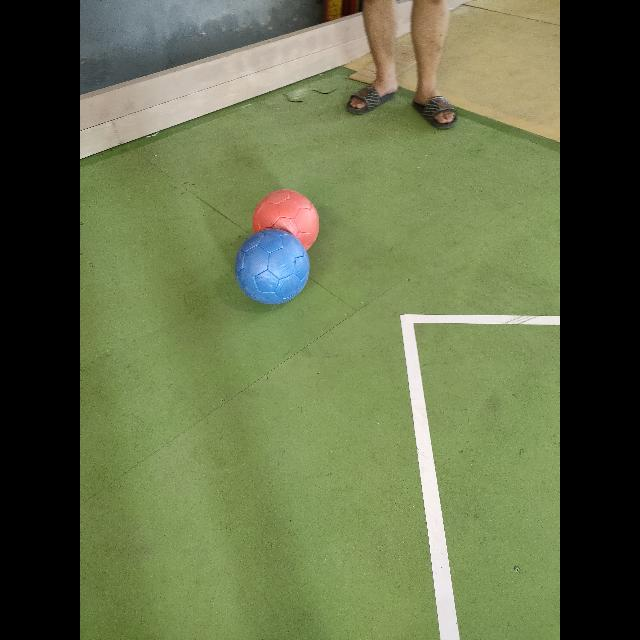B: (235, 229, 309, 304)
R: (252, 190, 319, 250)
